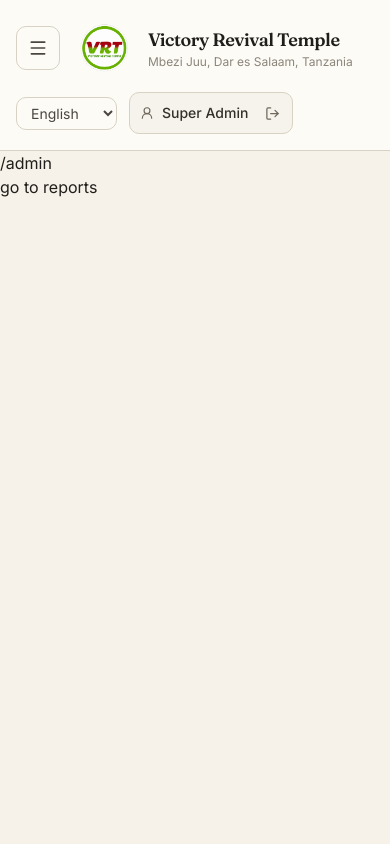
Test: AppHeader navigation: mobile drawer › carries the same clusters into the drawer, as labeled sections
Click the button named "Menu".
click(38, 48)  # box [16,26,60,70]
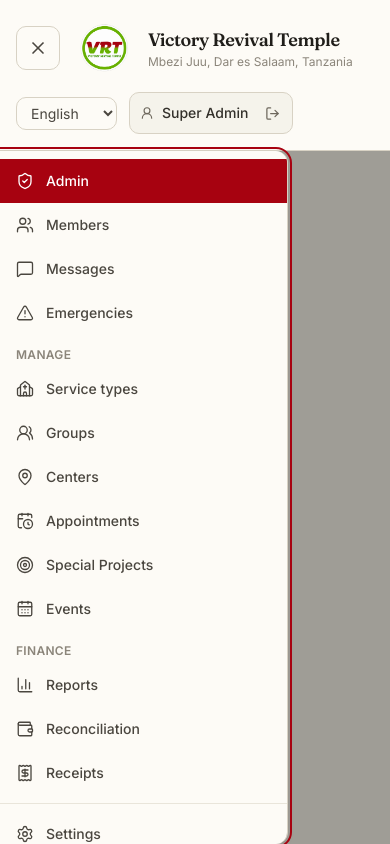
Expected: the links read "Service types", "Groups", "Centers", "Appointments", "Special Projects", "Events", in this order, [16,380,138,398]; [16,424,95,442]; [16,468,99,486]; [16,512,140,530]; [16,556,153,574]; [16,600,91,618]
Expected: the links read "Reports", "Reconciliation", "Receipts", in this order, [16,676,98,694]; [16,720,140,738]; [16,764,104,782]
